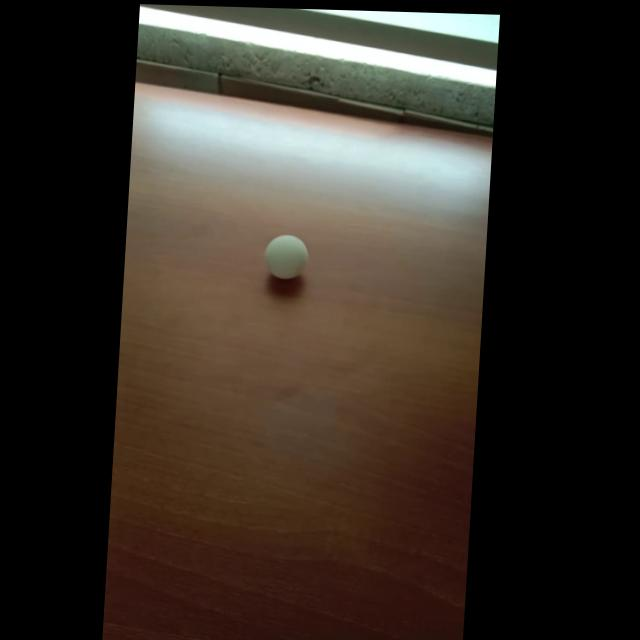white ball: (263, 233, 310, 281)
